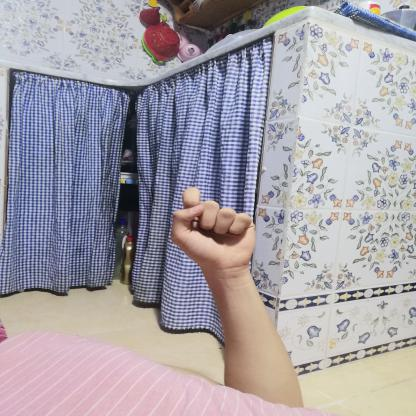FAA: (162, 178, 268, 285)
